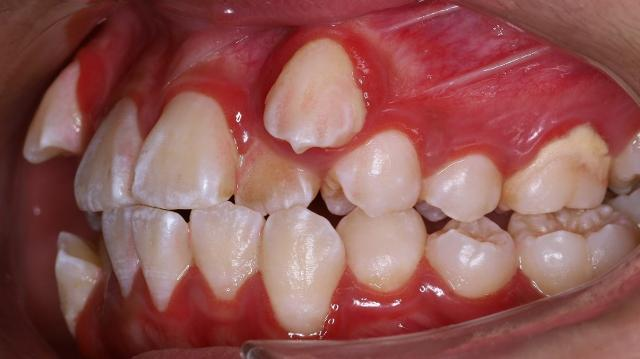canine class II 1/2: (264, 27, 428, 338)
molar class III 3/4: (503, 128, 637, 286)
